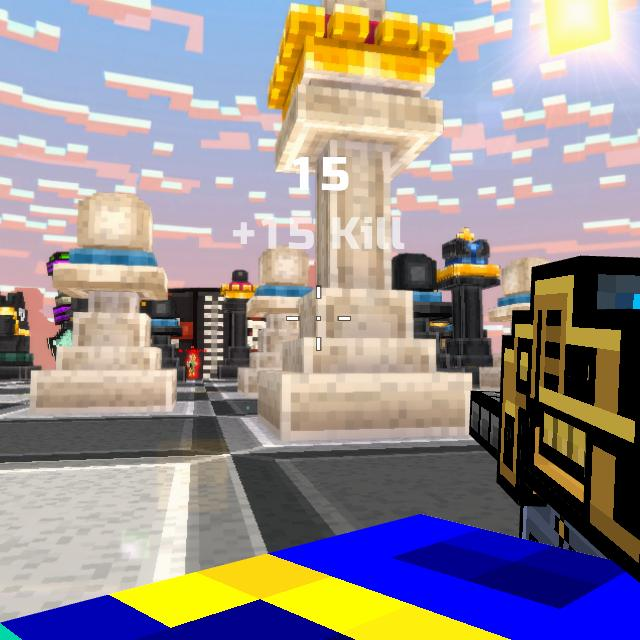Enemy: (186, 355, 197, 377)
